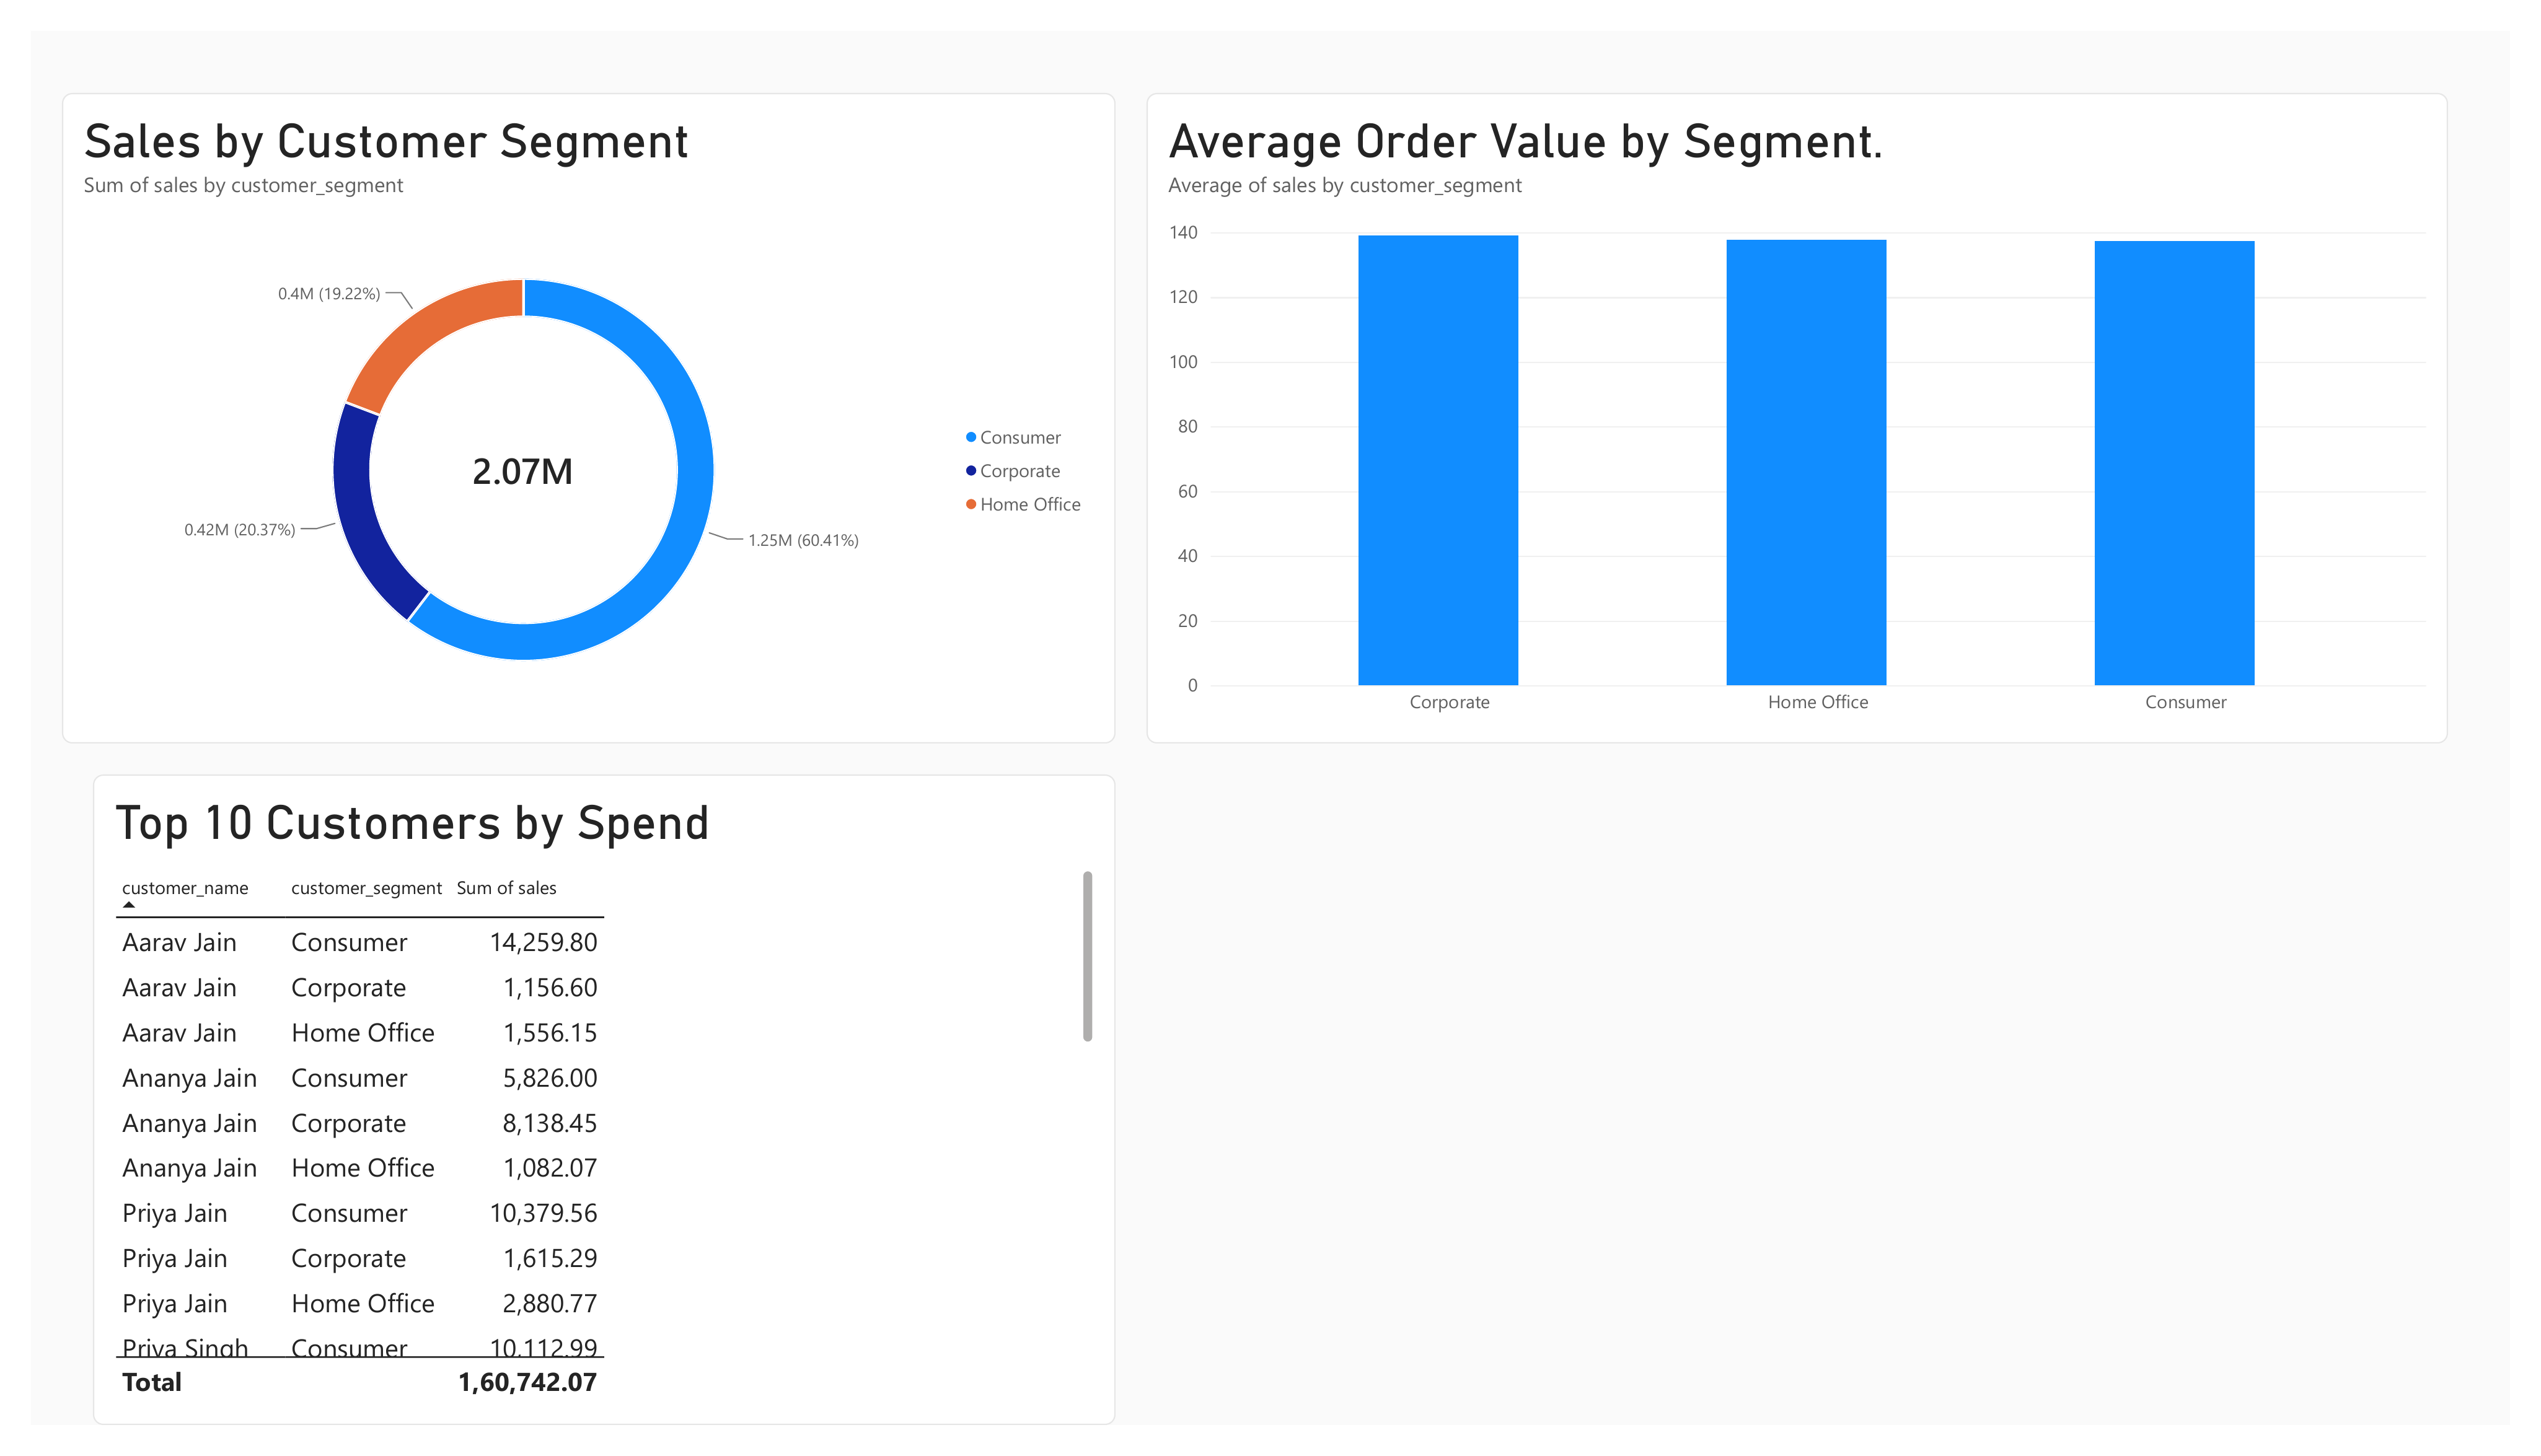

Layout of this report page (visuals, bound fields, positions):
{"tool":"powerbi","page":{"name":"Customer Analysis","canvas":[1920,1080],"ordinal":2},"visuals":[{"type":"clusteredColumnChart","title":"Average Order Value by Segment.","fields":{"Category":["ecommerce_project sales.customer_segment"],"Y":["Avg(ecommerce_project sales.sales)"]},"box":[864,48,1008,504],"z":0},{"type":"donutChart","title":"Sales by Customer Segment","fields":{"Category":["ecommerce_project sales.customer_segment"],"Y":["Sum(ecommerce_project sales.sales)"]},"box":[24,48,816,504],"z":1000},{"type":"tableEx","title":"Top 10 Customers by Spend","fields":{"Values":["ecommerce_project sales.customer_id","ecommerce_project sales.customer_name","ecommerce_project sales.customer_segment","Sum(ecommerce_project sales.sales)"]},"box":[48,576,792,504],"z":2000}]}

Visuals, with their boxes on the page's 1920x1080 design canvas (x1, y1, x2, y2). These are canvas units, not pixel positions in the 2541x1456 screenshot, which may show the page scaled, cropped or inside an application window:
"Average Order Value by Segment." clusteredColumnChart: detection(864, 48, 1872, 552)
"Sales by Customer Segment" donutChart: detection(24, 48, 840, 552)
"Top 10 Customers by Spend" tableEx: detection(48, 576, 840, 1080)
